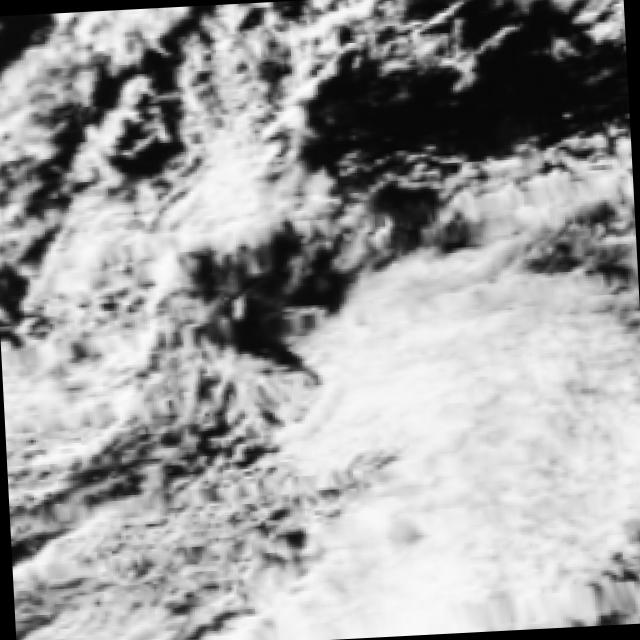CB: (405, 446, 615, 624), (348, 282, 552, 452), (454, 330, 635, 509), (307, 510, 511, 640)
